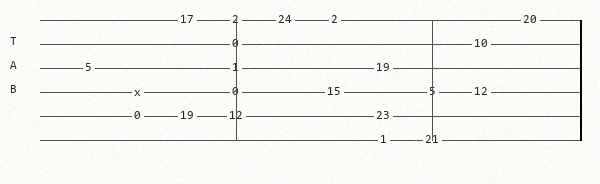0: (134, 110, 145, 122), (232, 86, 243, 98), (232, 38, 243, 50)
1: (232, 62, 243, 74), (380, 134, 391, 146)
10: (474, 38, 492, 50)
12: (229, 110, 247, 122), (474, 86, 492, 98)
15: (327, 86, 345, 98)
17: (180, 14, 198, 26)
19: (180, 110, 198, 122), (376, 62, 394, 74)
2: (232, 14, 243, 26), (331, 14, 342, 26)
20: (523, 14, 541, 26)
21: (425, 134, 443, 146)
23: (376, 110, 394, 122)
24: (278, 14, 296, 26)
5: (85, 62, 96, 74), (429, 86, 440, 98)
x: (134, 87, 145, 97)
